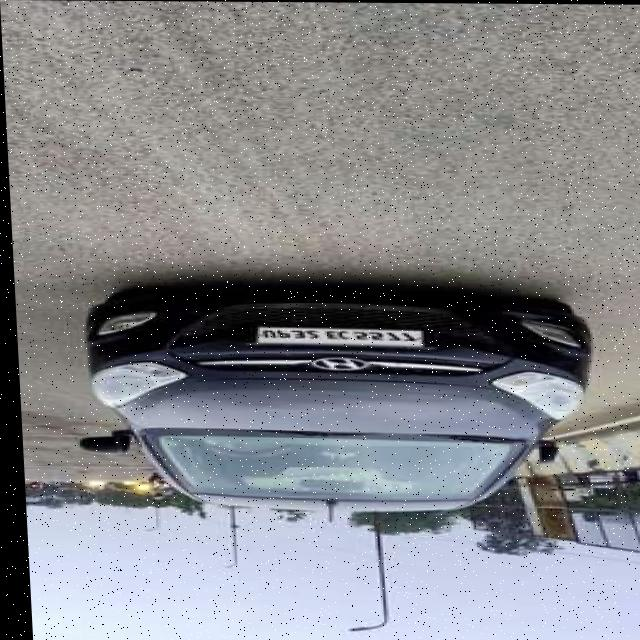plate: (250, 325, 416, 348)
